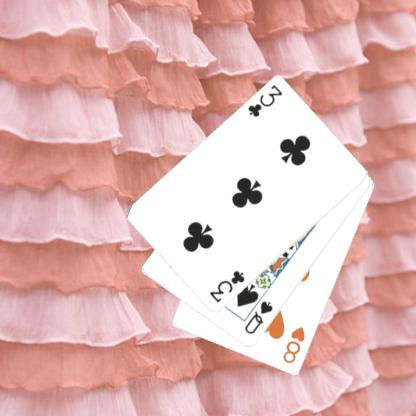3C: (206, 268, 246, 305), (244, 82, 284, 119)
8H: (280, 324, 307, 365)
QS: (241, 298, 275, 336)
